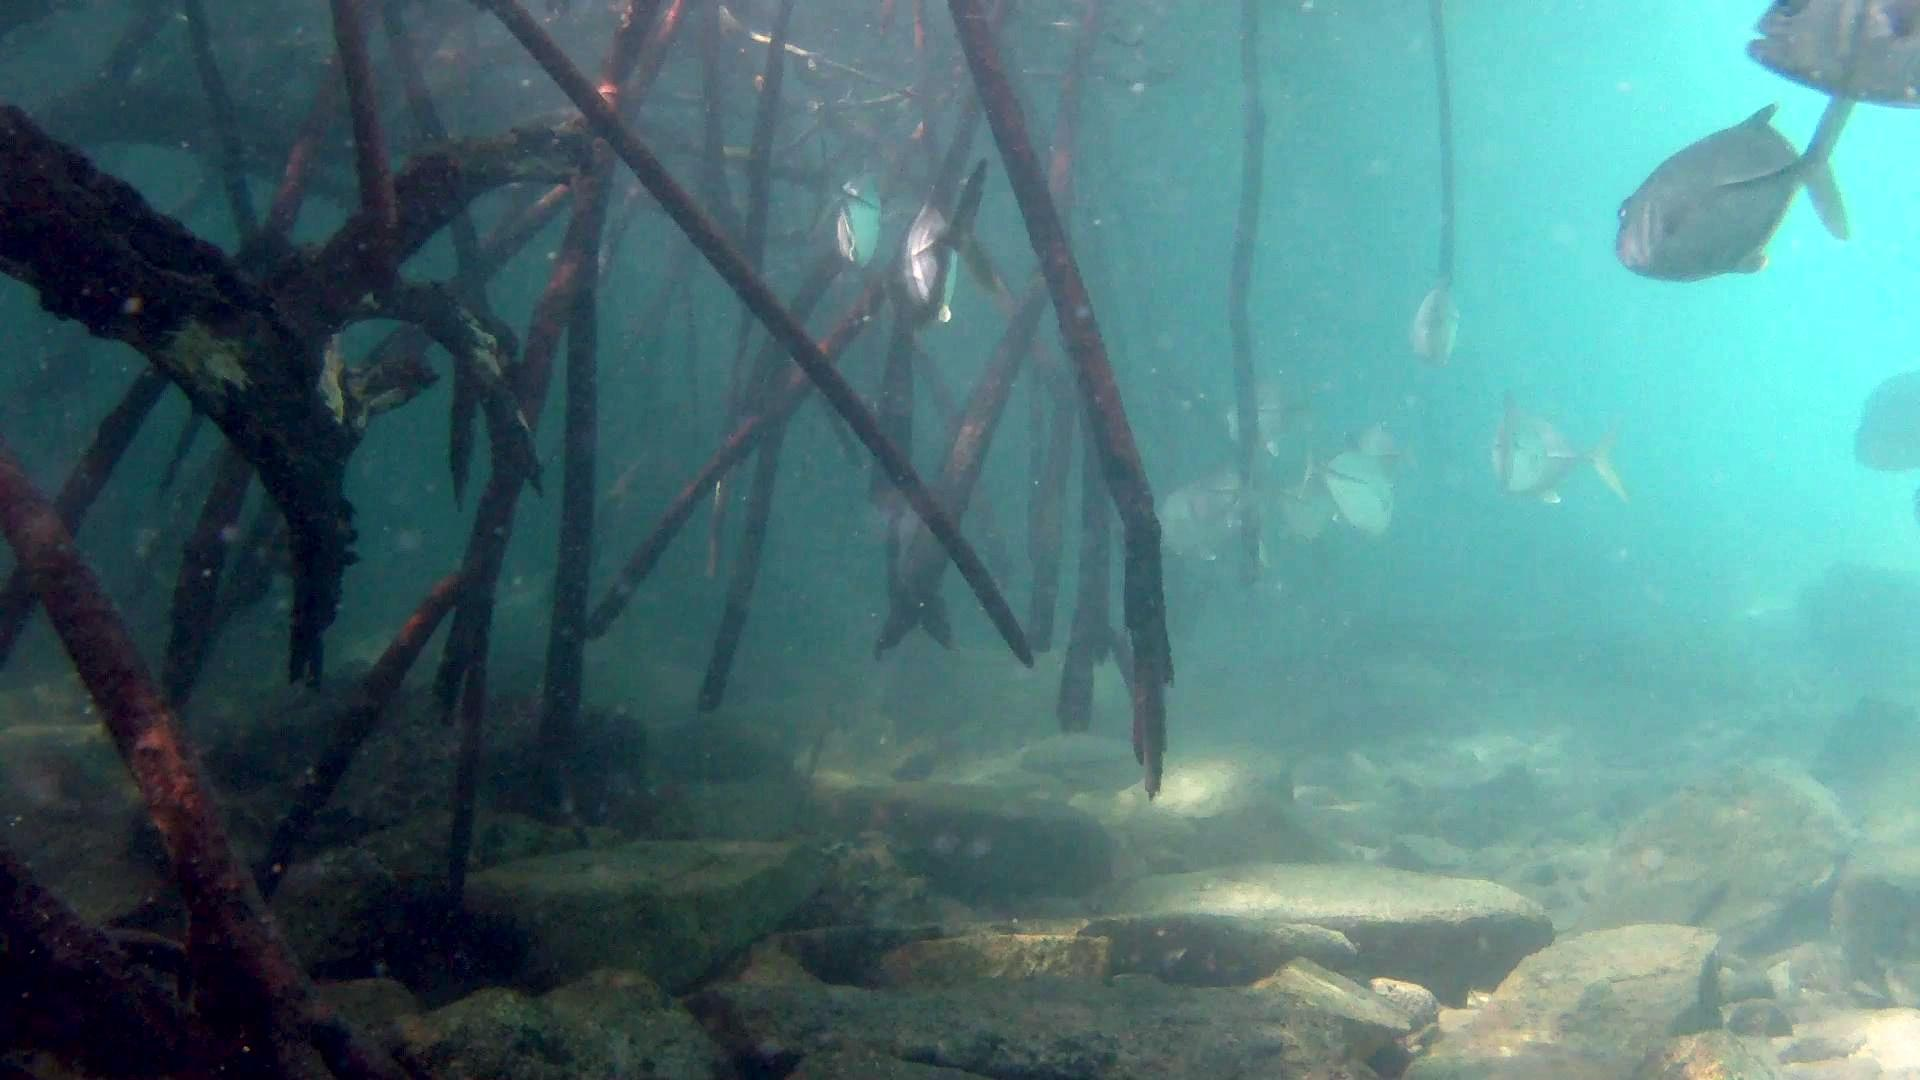caranx: (1605, 95, 1862, 301), (1721, 0, 1920, 111), (893, 167, 1022, 338)
